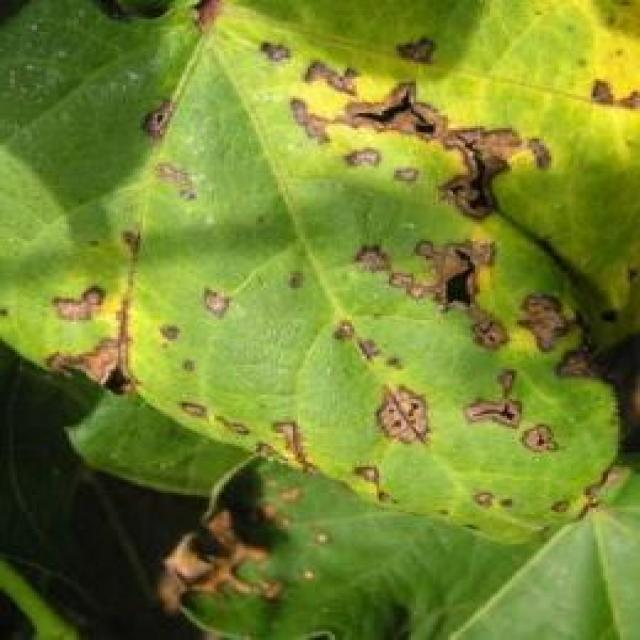Bacterial Blight: (145, 49, 609, 451)
